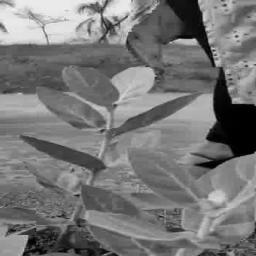Calotropis: (36, 67, 256, 249)
